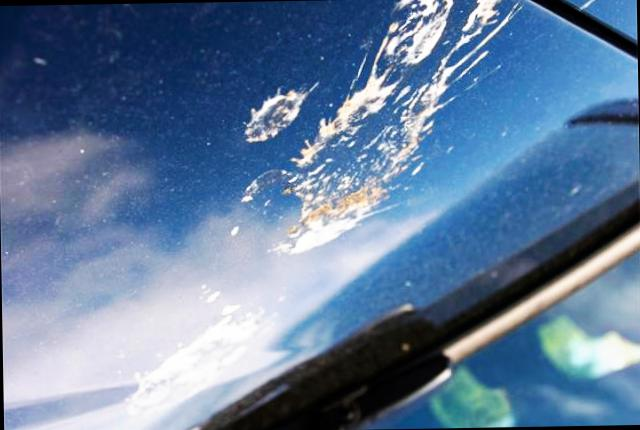Bird Poop: (243, 0, 520, 252), (127, 305, 263, 414), (246, 90, 307, 140)
